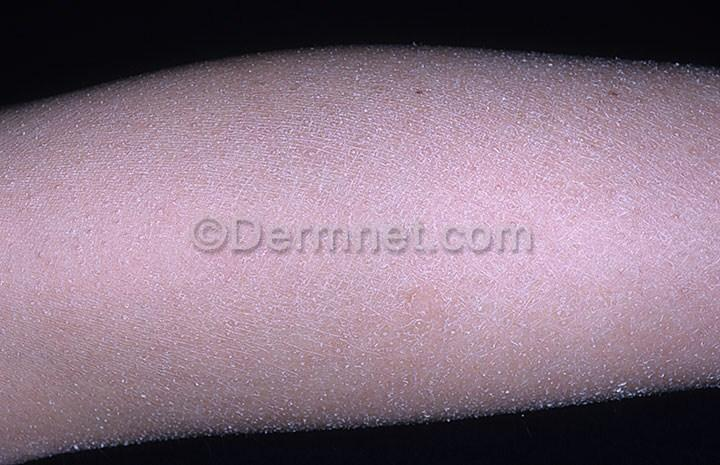xerosis 2: (0, 47, 719, 464)
